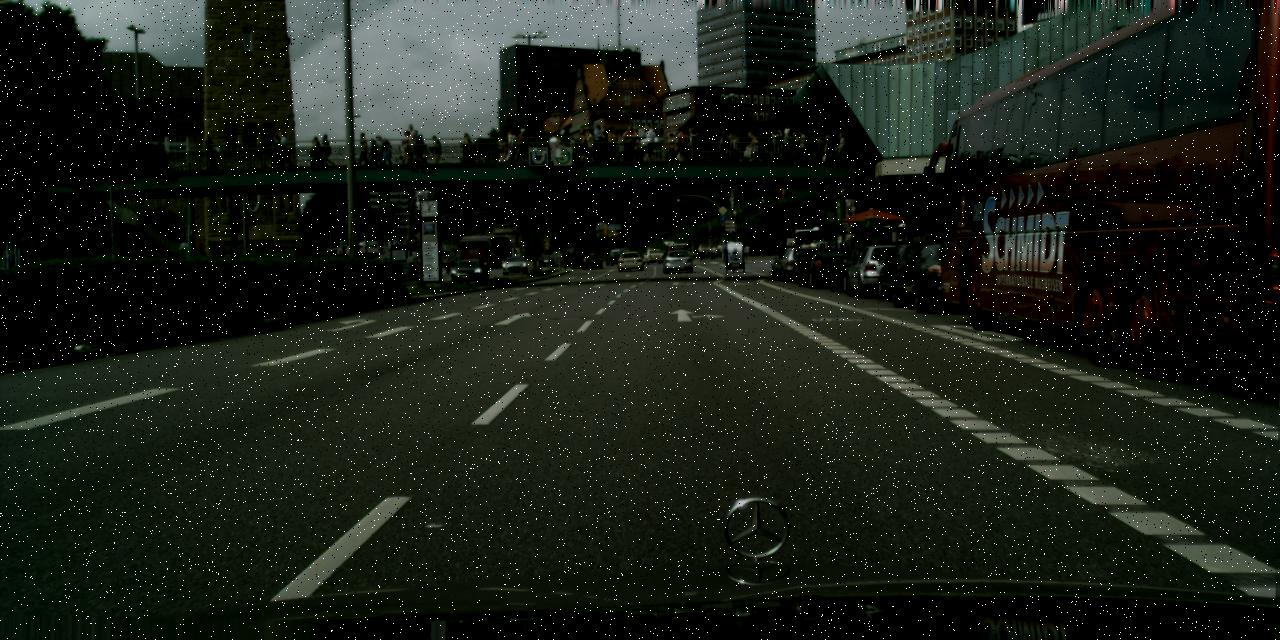ped: (403, 122, 420, 164), (640, 125, 655, 162), (688, 125, 703, 162), (512, 128, 527, 164), (592, 124, 606, 162), (276, 131, 290, 167), (604, 126, 618, 162), (202, 134, 216, 170), (505, 128, 519, 163), (622, 127, 636, 162), (714, 126, 728, 161), (355, 131, 369, 165), (546, 131, 560, 165), (779, 128, 792, 162), (405, 130, 418, 163), (318, 133, 331, 166), (677, 128, 690, 161), (769, 128, 782, 161), (461, 132, 474, 163), (310, 134, 322, 167), (269, 136, 282, 166), (429, 134, 441, 166), (748, 130, 760, 162), (794, 130, 806, 162), (584, 130, 596, 161), (372, 135, 384, 166), (578, 133, 590, 163), (834, 132, 846, 162), (822, 134, 834, 164), (899, 234, 910, 264), (789, 131, 800, 160), (729, 132, 740, 160), (857, 235, 867, 259), (880, 236, 889, 260), (808, 238, 817, 260), (818, 238, 826, 260), (697, 244, 703, 260), (743, 244, 749, 260), (711, 243, 717, 258), (445, 257, 451, 272), (702, 245, 708, 259), (708, 244, 713, 258), (758, 198, 764, 208), (718, 244, 722, 258), (779, 189, 786, 197), (451, 246, 453, 252), (454, 248, 456, 254)
